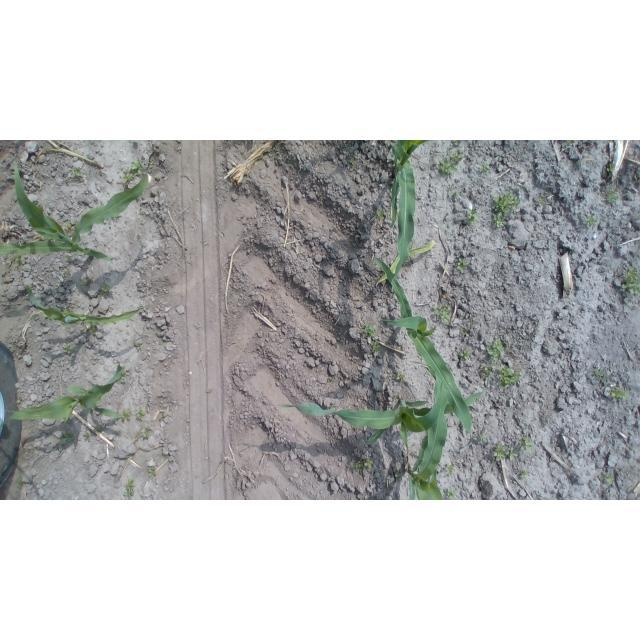Maize: (370, 256, 474, 435), (0, 159, 152, 272), (279, 391, 485, 454), (389, 140, 436, 284), (6, 366, 123, 423), (405, 357, 451, 500), (22, 282, 142, 327), (375, 240, 436, 284)
Weeds: (493, 192, 522, 229), (121, 160, 148, 185), (440, 149, 463, 176), (620, 267, 640, 296), (499, 366, 522, 389), (486, 338, 505, 361), (351, 458, 374, 475), (433, 304, 452, 324), (611, 386, 629, 402), (124, 477, 137, 499), (466, 209, 480, 228), (491, 443, 505, 461), (519, 436, 534, 452), (606, 188, 621, 203), (481, 365, 496, 380), (448, 184, 461, 201), (371, 339, 385, 353), (456, 259, 469, 274), (592, 368, 608, 380), (63, 219, 75, 235), (444, 463, 457, 477), (119, 407, 132, 421), (59, 432, 74, 444), (443, 487, 456, 500), (506, 448, 518, 461), (586, 214, 598, 227), (135, 406, 145, 421), (458, 348, 470, 360), (364, 324, 375, 337), (604, 473, 615, 485), (140, 427, 153, 437), (62, 342, 72, 354), (479, 163, 491, 173), (15, 475, 23, 489), (397, 372, 406, 384), (72, 164, 81, 176), (376, 208, 384, 220), (480, 433, 489, 443), (147, 468, 157, 477), (100, 284, 110, 293), (349, 156, 356, 168), (30, 315, 39, 324), (607, 164, 616, 173), (89, 325, 97, 335), (135, 341, 143, 351), (16, 396, 25, 404), (521, 469, 528, 479), (84, 432, 91, 441), (94, 426, 103, 433), (15, 255, 22, 264), (540, 197, 549, 204), (395, 471, 404, 477), (121, 368, 127, 377), (119, 377, 128, 383), (61, 267, 70, 273), (149, 160, 155, 168), (129, 140, 139, 144), (328, 376, 335, 381), (454, 141, 461, 146), (394, 395, 398, 403), (62, 308, 70, 312), (567, 140, 575, 144), (64, 255, 70, 259), (472, 321, 477, 324), (360, 497, 364, 500), (160, 340, 163, 344)
